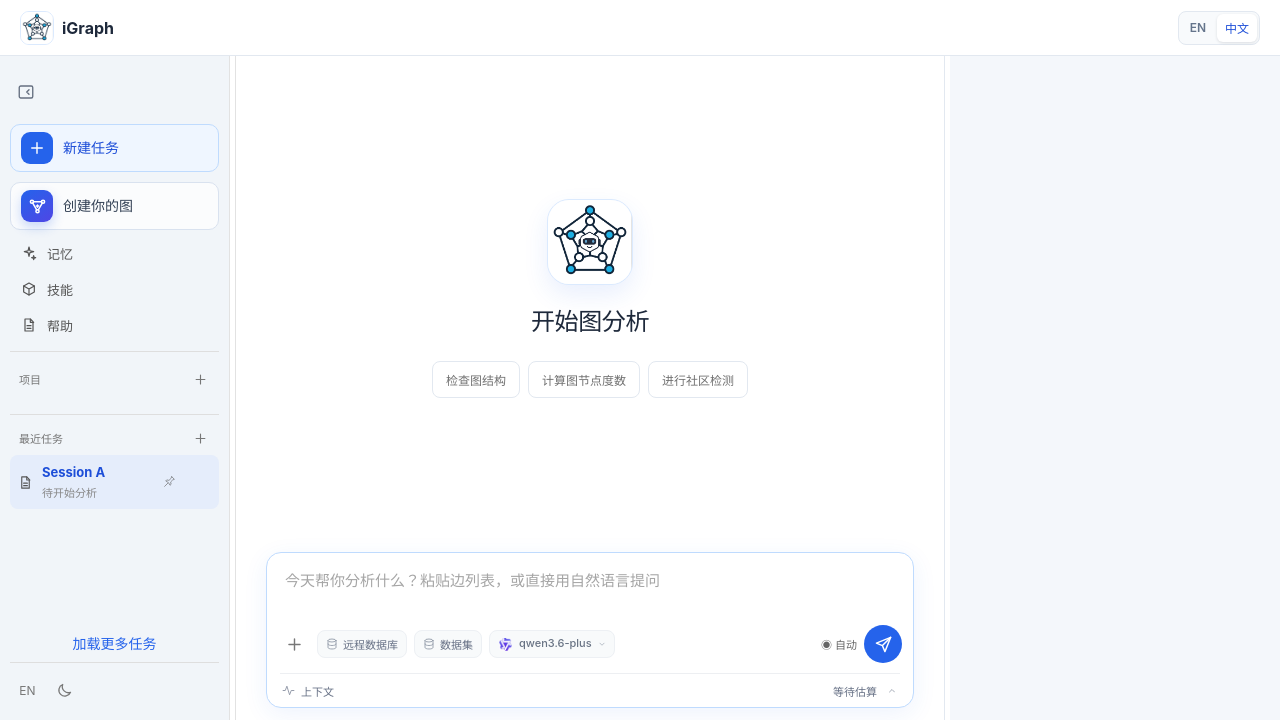
Test: keeps pagination when legacy account storage changes
Expected: the text box with placeholder "今天帮你分析什么？粘贴边列表，或直接用自然语言提问" is shown, [267,553,913,625]
Click the button "加载更多任务". click: click(114, 643)
box: [22,632,207,654]
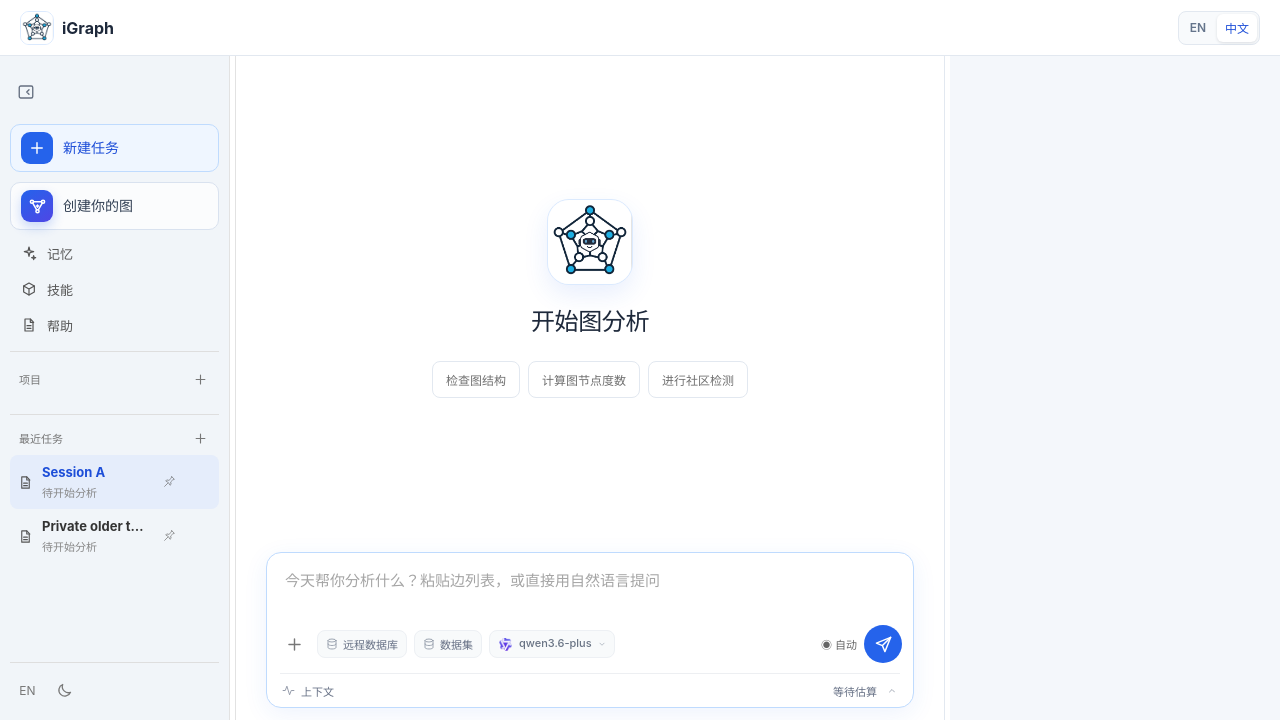
Now the text "Private older task" is shown, box [42,518,150,534]
